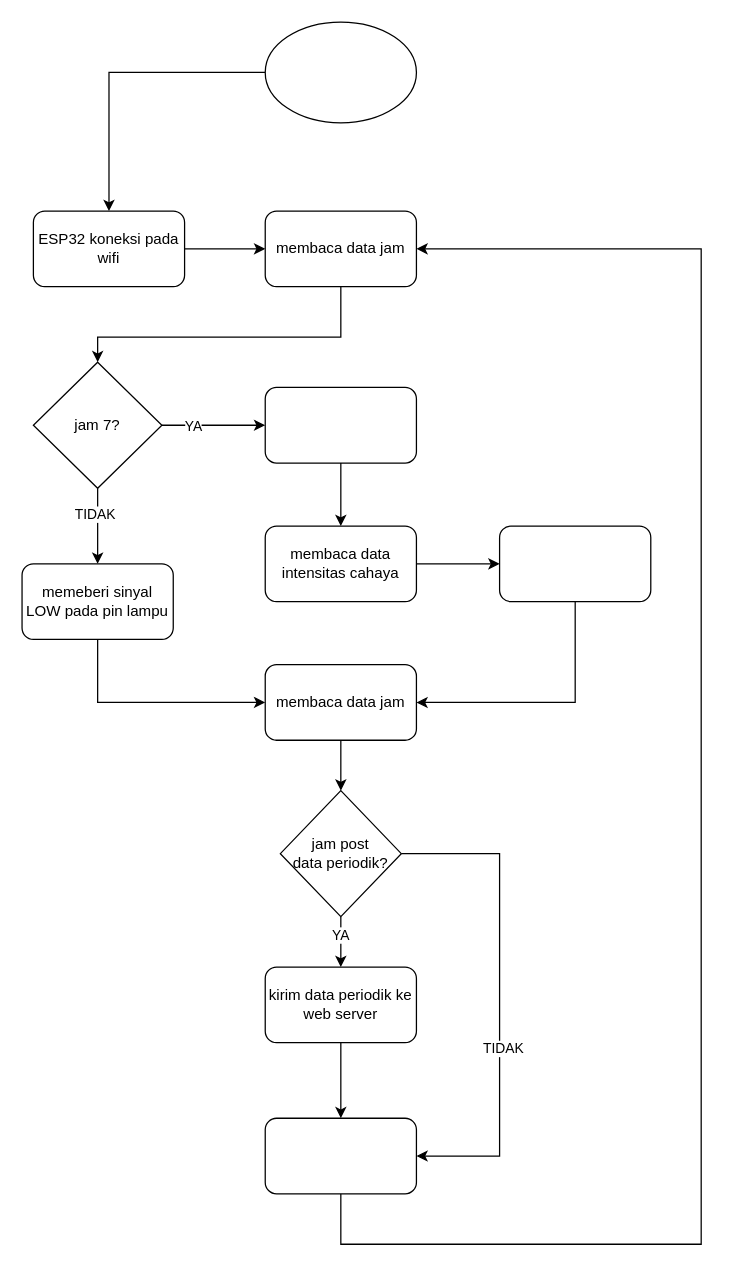
The diagram is 733 pixels wide and 1276 high, and some of its shapes have lost their labels. The shapes that lost their labels are listed below. From the top down, each one's centre as x and y in pixels, then its label:
the point at 340,72: mulai
the point at 340,424: memberi sinyal high pada pin lampu
the point at 574,563: menghitung lama lampu berdasarkan nilai intensitas cahaya
the point at 340,1155: kirim data realtime ke web server
